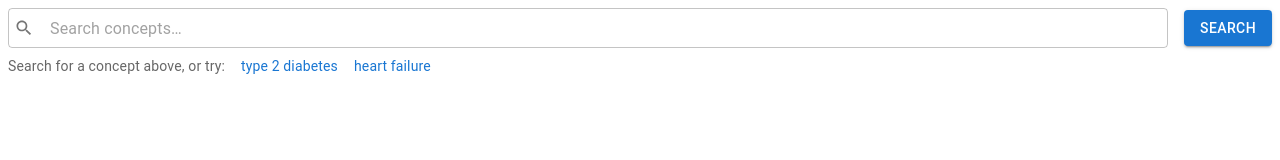
Test: Search › initial state › searches an example term when it is clicked
Click the button "heart failure". click: [392, 66]
box: [354,56,431,76]
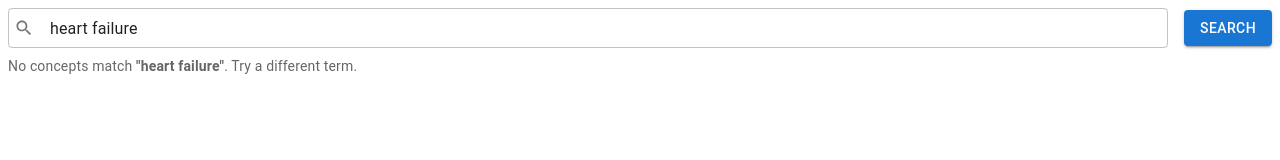
Now the dropdown named "Search" holds "heart failure", box [42,14,1159,42]
